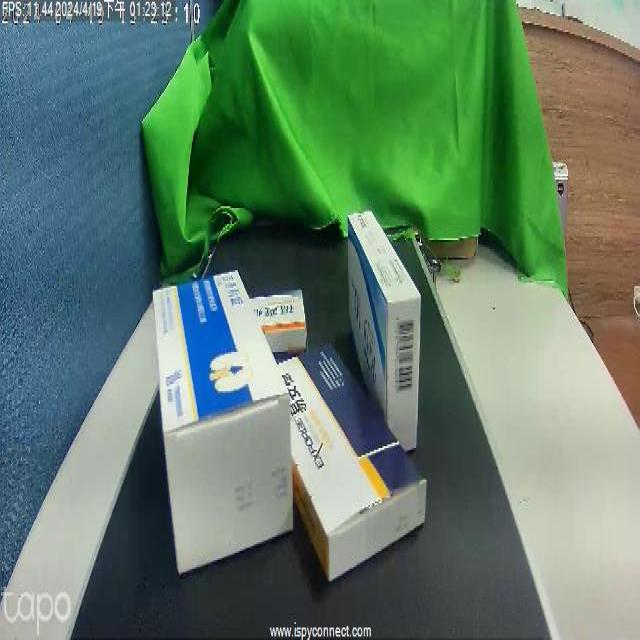box: (159, 274, 273, 546), (280, 359, 400, 549), (343, 224, 427, 419), (239, 281, 305, 352)
